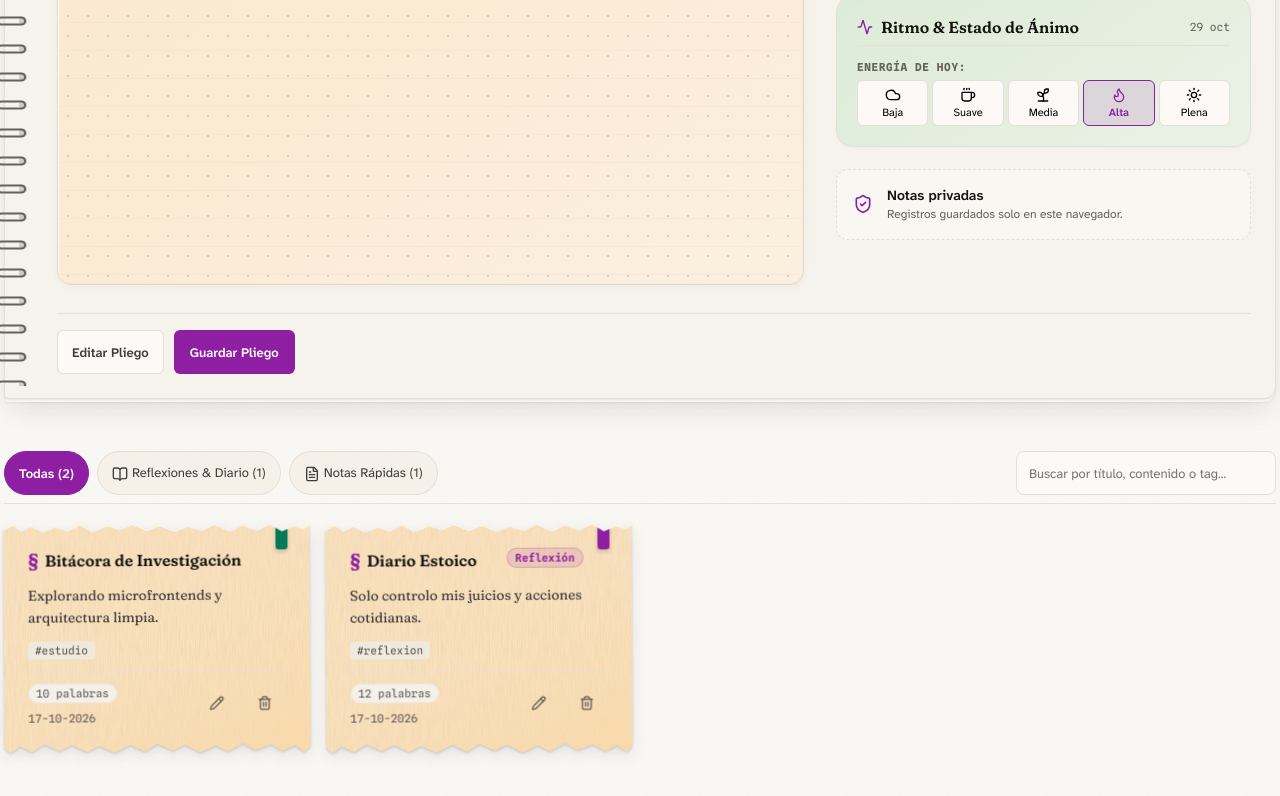
NotesView - Pliego Bujo Superior Activo › 3. al hacer clic en una tarjeta BujoCard de la grilla inferior, el pliego superior muestra esa nota con badge "Pliego Activo de Trabajo"
This screenshot has width=1280, height=796.
(page scrolled)
Expected: the text "Pliego Activo de Trabajo" is not shown
// Seleccionamos la tarjeta Bitácora de Investigación
Click the heading "§ Bitácora de Investigación". click: coordinates (134, 560)
box: [28,548,241,573]
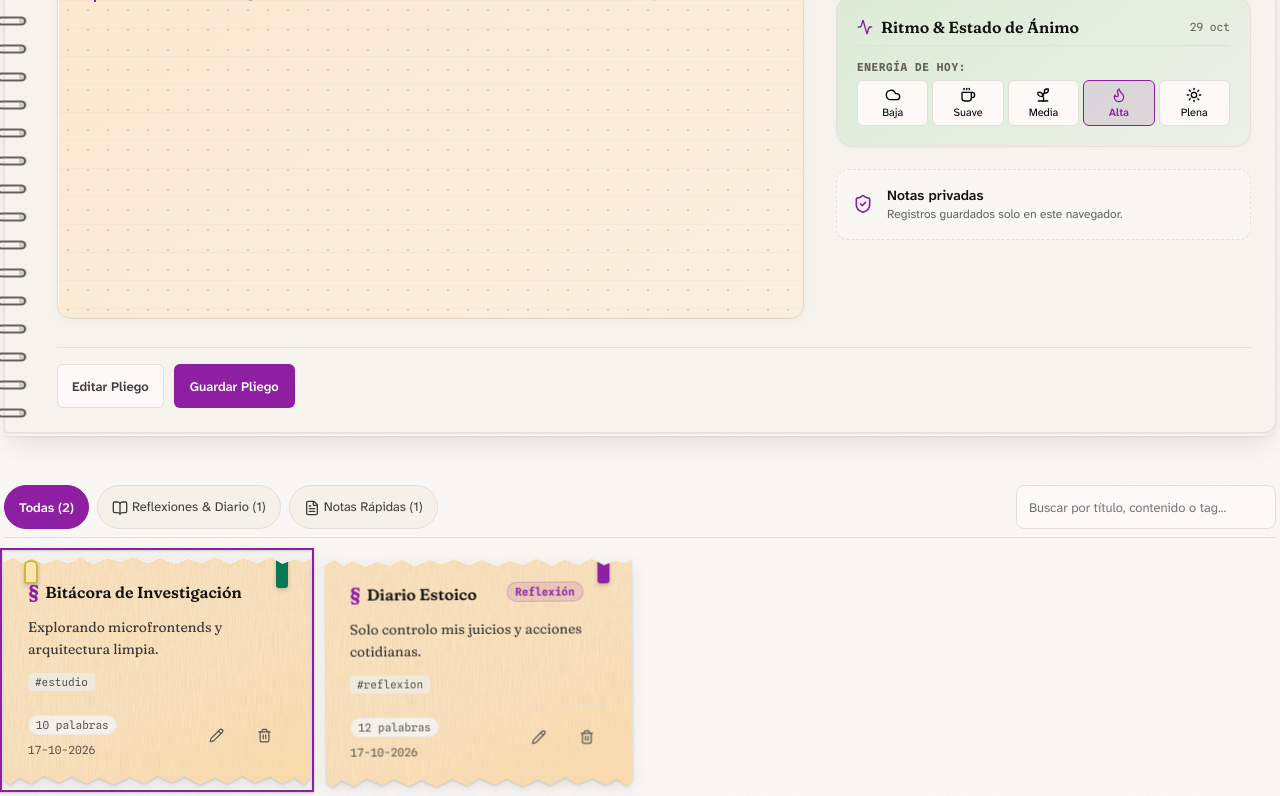
// Seleccionamos Diario Estoico
Click the heading "§ Diario Estoico". click: coordinates (413, 594)
box: [350,582,477,607]
(page scrolled)
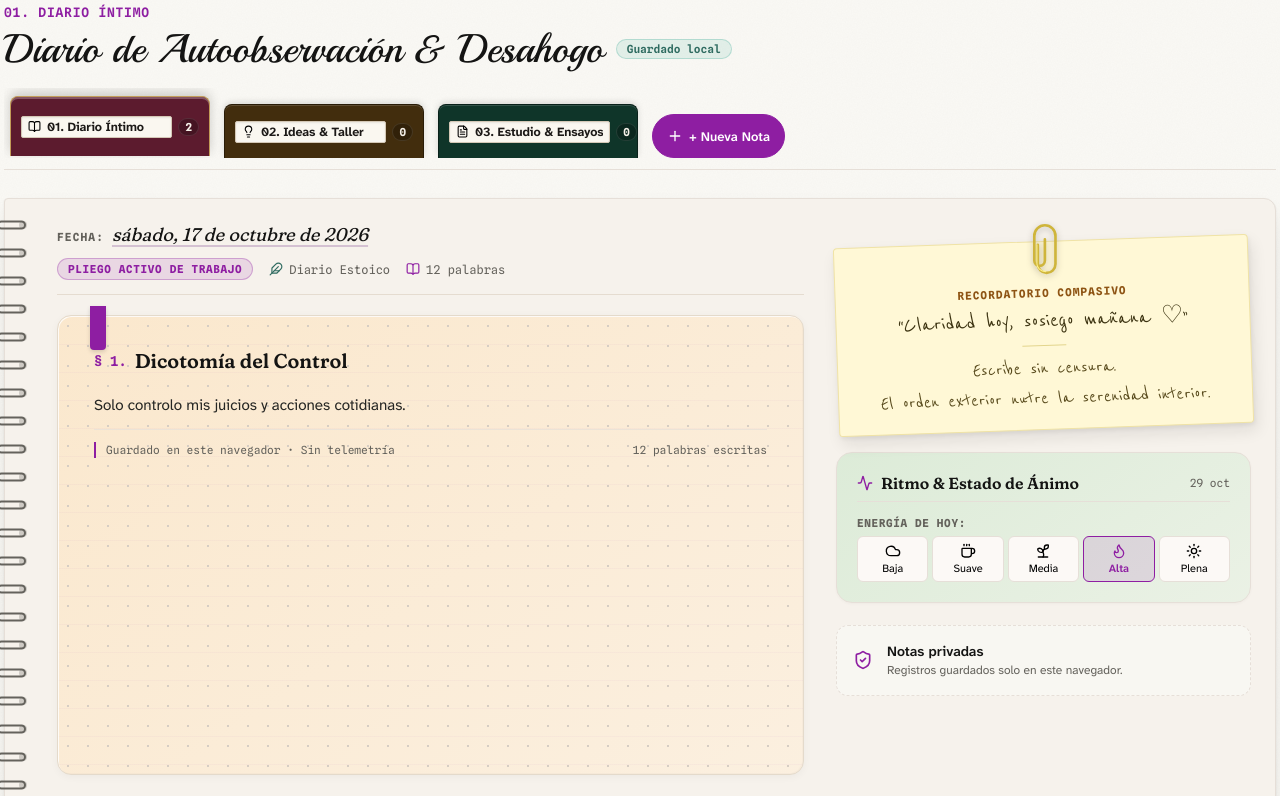
Expected: the text "Pliego Activo de Trabajo" is shown, [57,258,253,280]
Expected: the heading "§ 1. Dicotomía del Control" is shown, [94,348,348,373]
Expected: the text "Solo controlo mis juicios y acciones cotidianas." is shown, [94,395,406,415]
